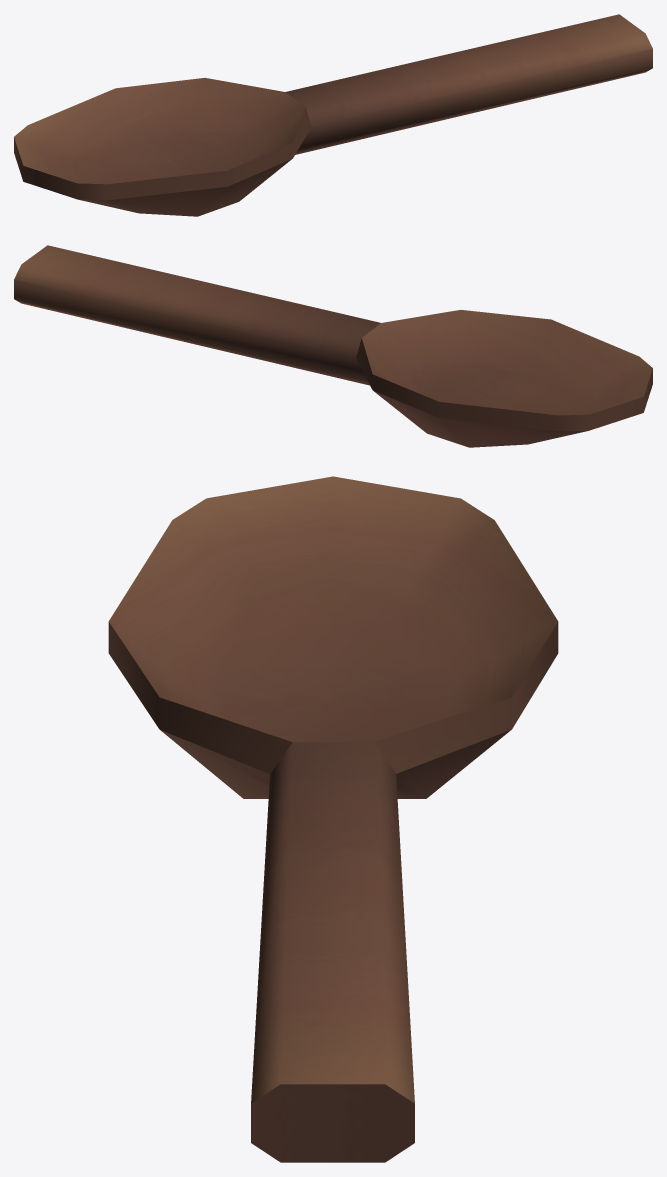
The model's file is spoon_cuttlery_wood.fbx.
The picture shows the model from 3 angles, top to bottom: view 1: azimuth 30°, elevation 25°; view 2: azimuth 150°, elevation 25°; view 3: azimuth 270°, elevation 25°; orthographic projection. The views are drawn at different scales.
Parts seen in each view (by area): view 1: spoon_cuttlery_wood; view 2: spoon_cuttlery_wood; view 3: spoon_cuttlery_wood.
Boxes of the visible parts, left/top/right/bottom form: spoon_cuttlery_wood: left=14, top=14, right=652, bottom=216; spoon_cuttlery_wood: left=14, top=245, right=652, bottom=447; spoon_cuttlery_wood: left=108, top=476, right=558, bottom=1162.
Bounding box in the file's own units: 36.83 × 3.88 × 11.77.
